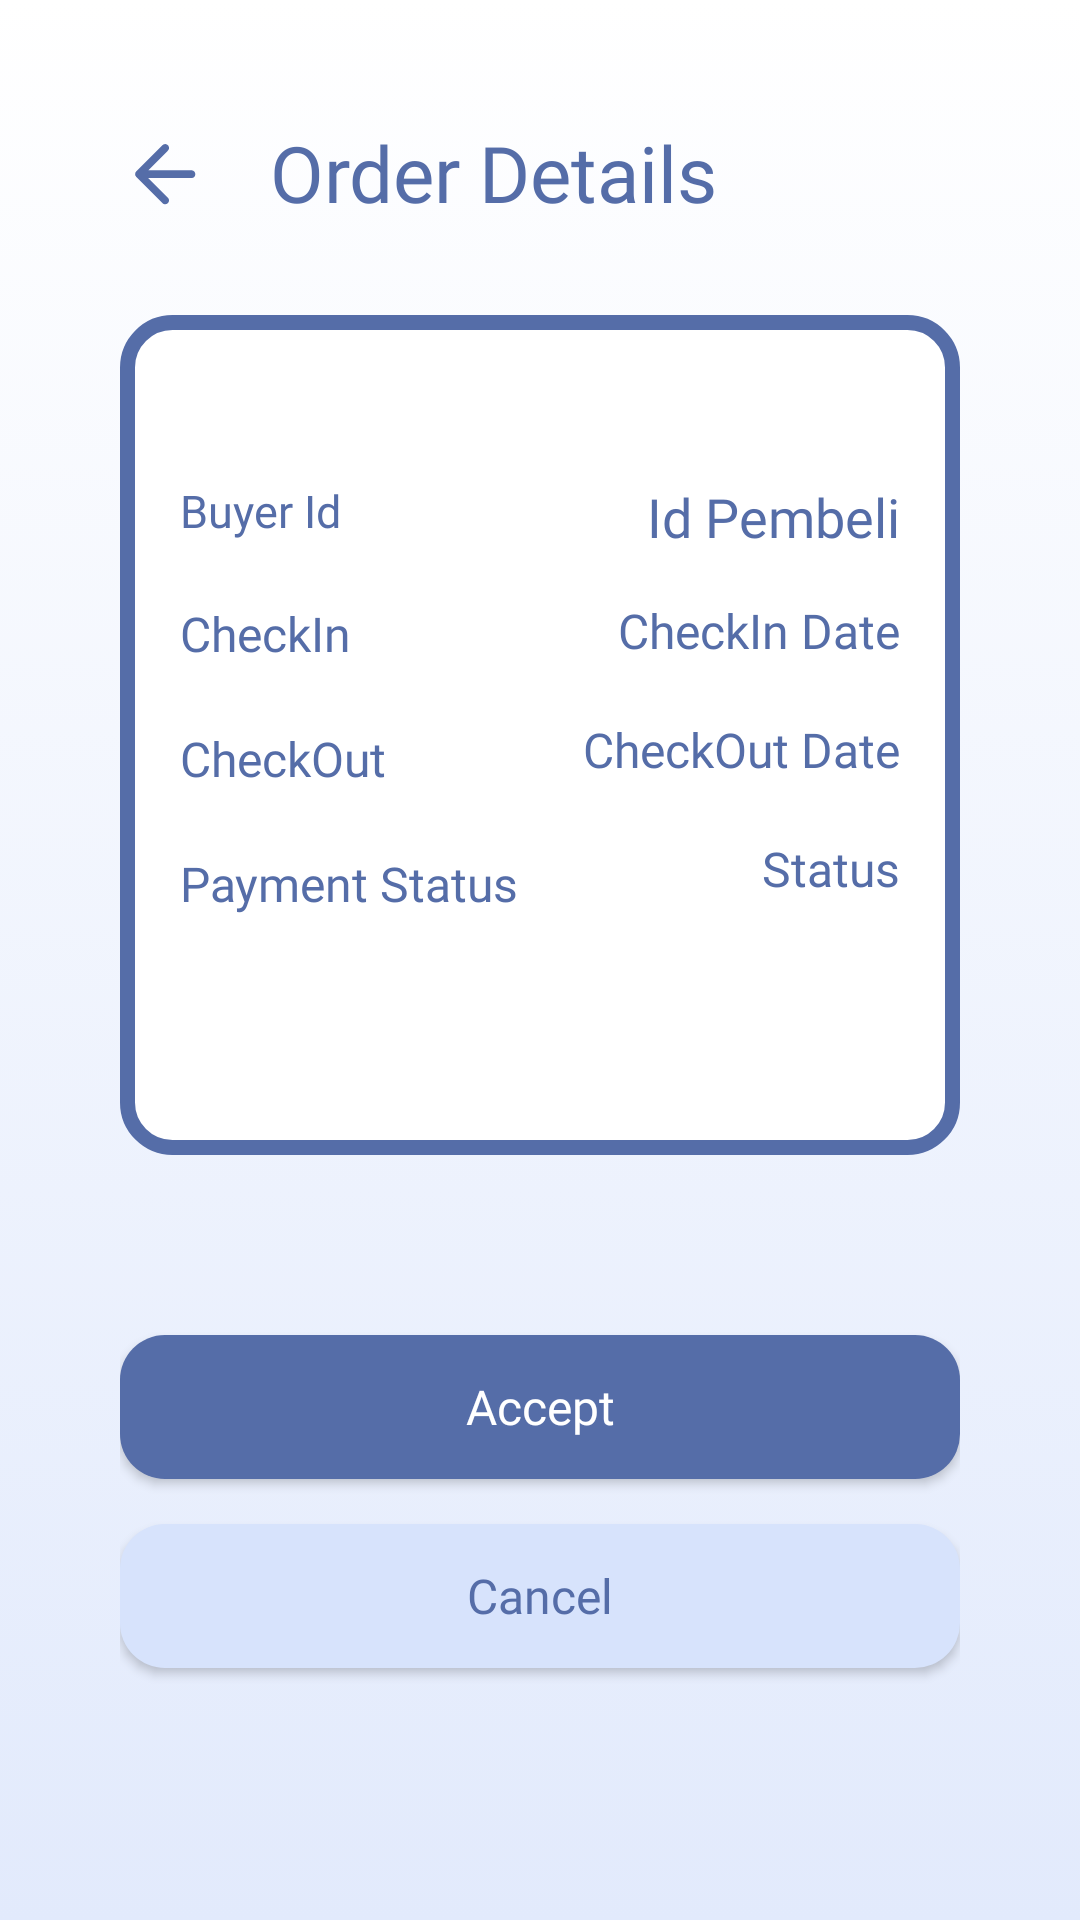

Icons on this 1080px x 1920px Android screen, each with the point to tap as (x=x, y=y):
arrow left: (x=165, y=174)
